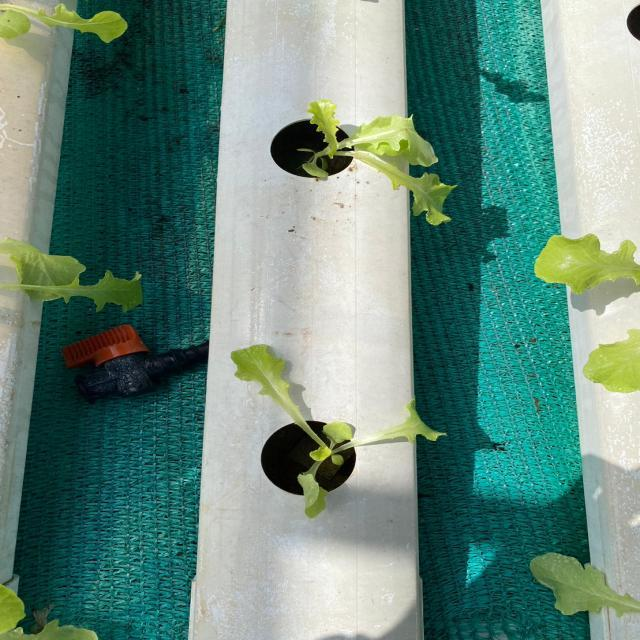Lettuce-Not-Ready-to-Harvest: (231, 344, 442, 518), (302, 99, 454, 224), (0, 239, 142, 310), (531, 552, 640, 616), (535, 234, 640, 294), (0, 584, 98, 640), (0, 4, 128, 42), (584, 329, 640, 392)
